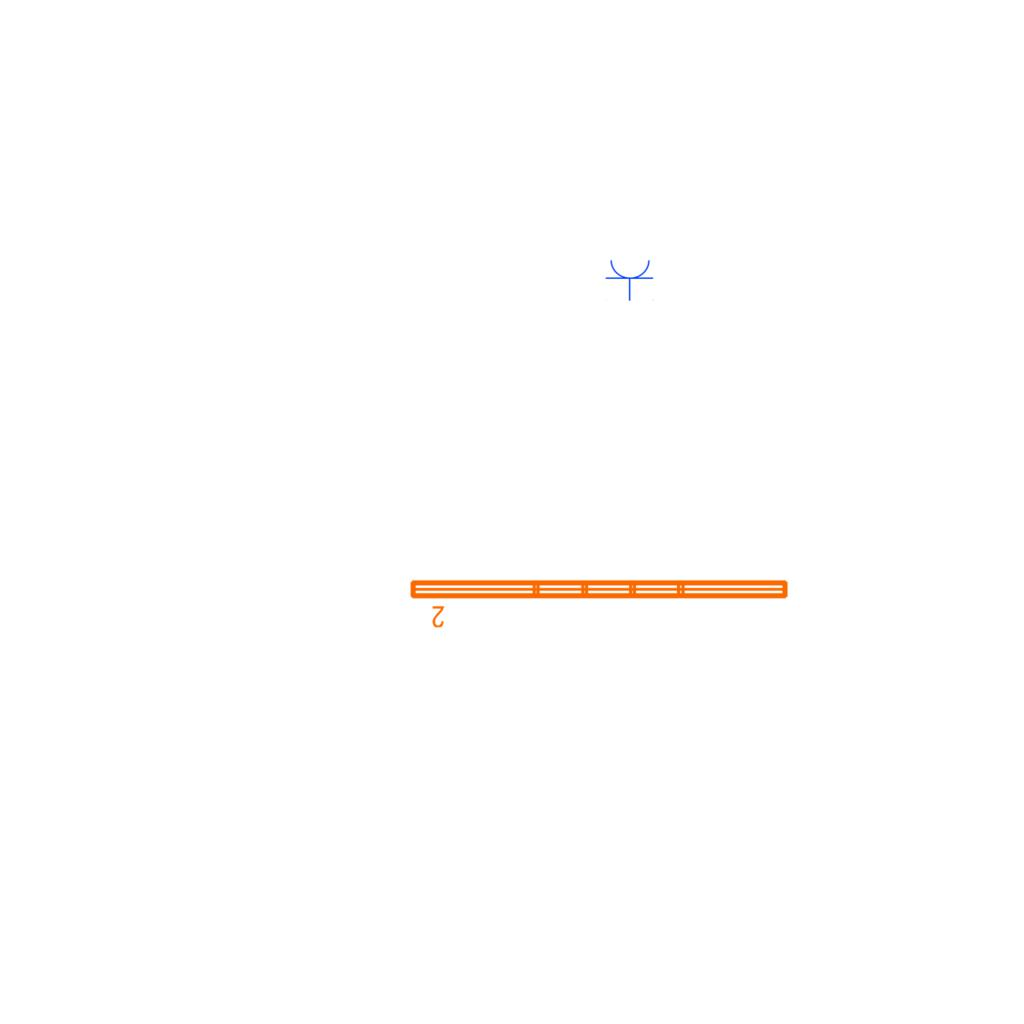Ambulanz_Pendelleuchte_LED: (406, 574, 793, 630)
Schukosteckdose_einfach: (605, 258, 655, 301)
